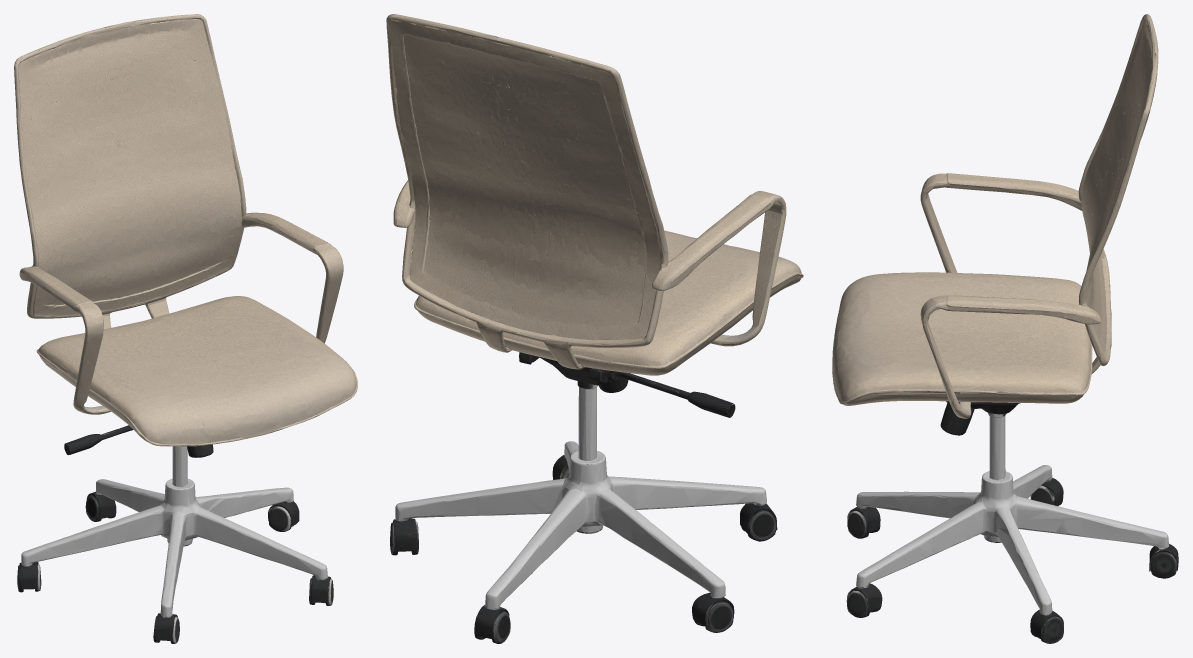
3 renders of one model, left to right at view 1: azimuth 30°, elevation 25°; view 2: azimuth 150°, elevation 25°; view 3: azimuth 270°, elevation 25°, orthographic. The views are drawn at different scales.
Bounding box in the file's own units: 1.13 × 1.9 × 1.15.
Materials: 1 (1 with a texture image).
